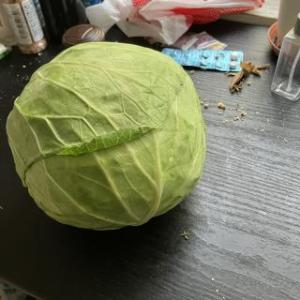cabbage: (6, 39, 209, 232)
